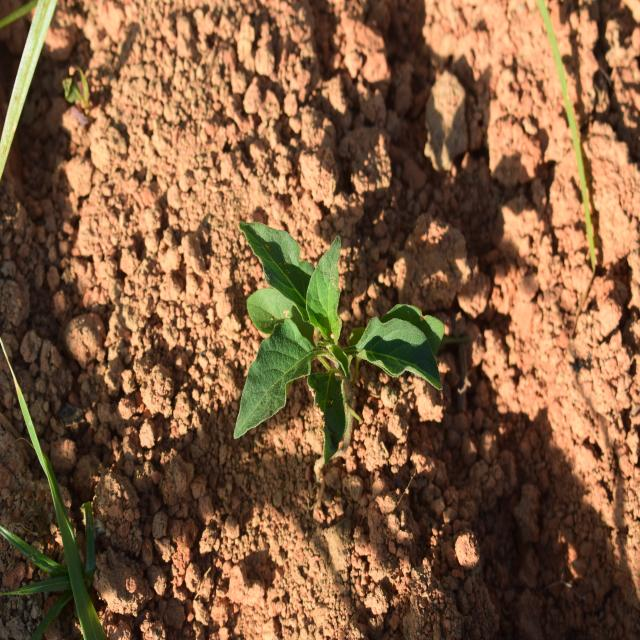Black_nightshade: (233, 237, 456, 447)
